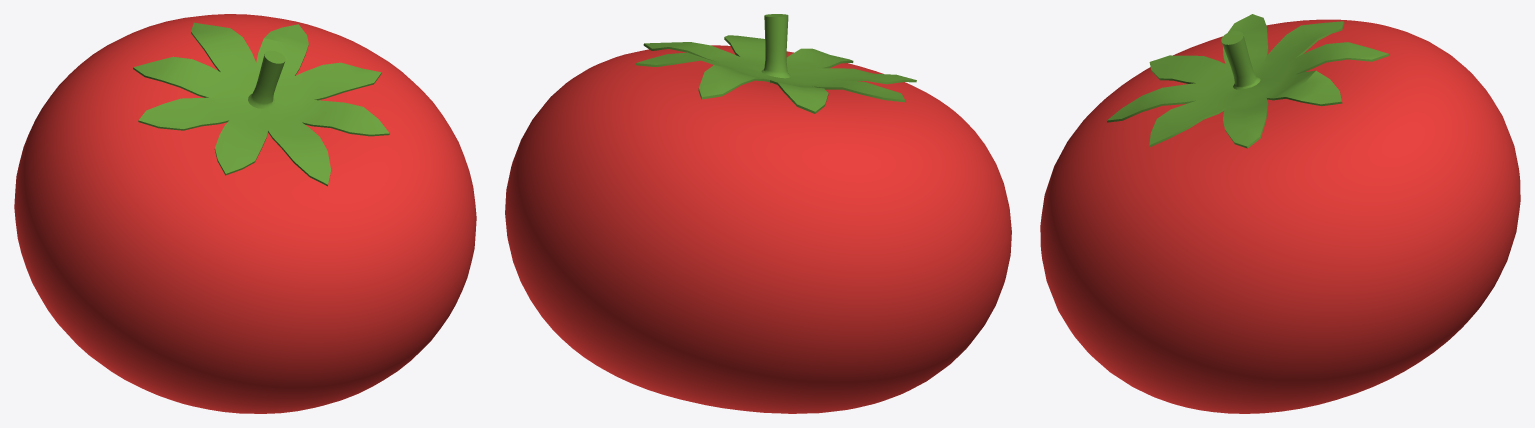
File: tomato.glb
3 renders of one model, left to right at view 1: azimuth 30°, elevation 25°; view 2: azimuth 150°, elevation 25°; view 3: azimuth 270°, elevation 25°, orthographic. The views are drawn at different scales.
Parts seen in each view (by area): view 1: Cube.342; view 2: Cube.342; view 3: Cube.342.
Part boxes in pixels (left/top/right/bottom): Cube.342: left=14, top=14, right=476, bottom=413; Cube.342: left=505, top=14, right=1011, bottom=413; Cube.342: left=1040, top=14, right=1520, bottom=413.
Size of the model in its own units: 2.34 by 1.85 by 2.3.
Materials: 1 (1 with a texture image).
